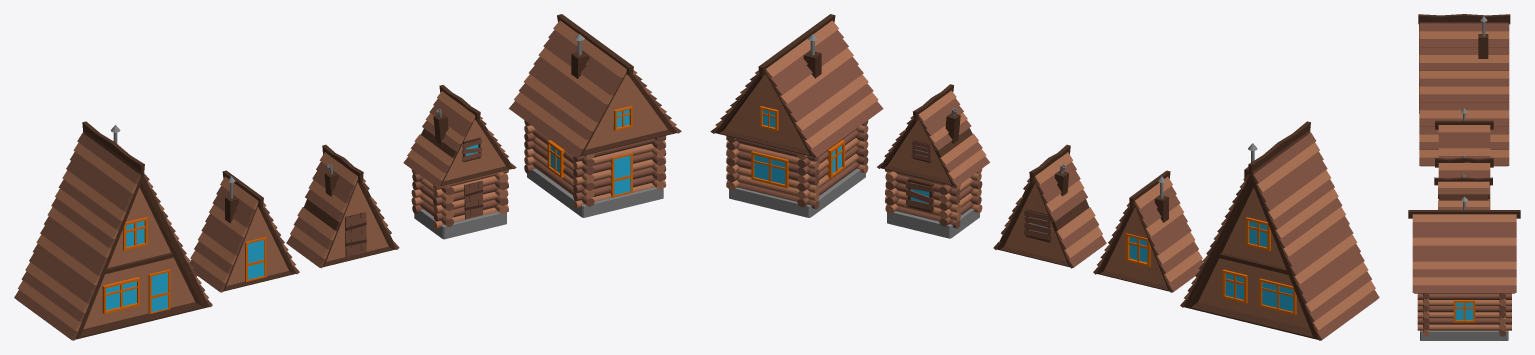
The model's file is Forest_Houses.fbx.
The picture shows the model from 3 angles, left to right: view 1: azimuth 30°, elevation 25°; view 2: azimuth 150°, elevation 25°; view 3: azimuth 270°, elevation 25°; orthographic projection. The views are drawn at different scales.
Parts seen in each view (by area): view 1: Forest_House_Type 1_01, Forest_House_Type 2_01, Forest_House_Type 2_02, Forest_House_Type 1_03, Forest_House_Type 1_02; view 2: Forest_House_Type 1_01, Forest_House_Type 2_01, Forest_House_Type 2_02, Forest_House_Type 1_03, Forest_House_Type 1_02; view 3: Forest_House_Type 2_01, Forest_House_Type 1_01, Forest_House_Type 1_02, Forest_House_Type 2_02, Forest_House_Type 1_03.
Part boxes in pixels (x1=…): Forest_House_Type 1_01: x1=14, y1=121, x2=212, y2=340; Forest_House_Type 2_01: x1=509, y1=14, x2=681, y2=217; Forest_House_Type 2_02: x1=403, y1=85, x2=516, y2=239; Forest_House_Type 1_03: x1=286, y1=144, x2=399, y2=268; Forest_House_Type 1_02: x1=189, y1=170, x2=299, y2=292; Forest_House_Type 1_01: x1=1180, y1=121, x2=1379, y2=340; Forest_House_Type 2_01: x1=710, y1=14, x2=883, y2=217; Forest_House_Type 2_02: x1=877, y1=84, x2=989, y2=238; Forest_House_Type 1_03: x1=993, y1=144, x2=1106, y2=268; Forest_House_Type 1_02: x1=1093, y1=170, x2=1203, y2=292; Forest_House_Type 2_01: x1=1408, y1=196, x2=1520, y2=340; Forest_House_Type 1_01: x1=1418, y1=14, x2=1510, y2=166; Forest_House_Type 1_02: x1=1435, y1=108, x2=1493, y2=158; Forest_House_Type 2_02: x1=1434, y1=175, x2=1492, y2=209; Forest_House_Type 1_03: x1=1435, y1=156, x2=1493, y2=209.
Size of the model in its own units: 2875 by 761 by 590.
